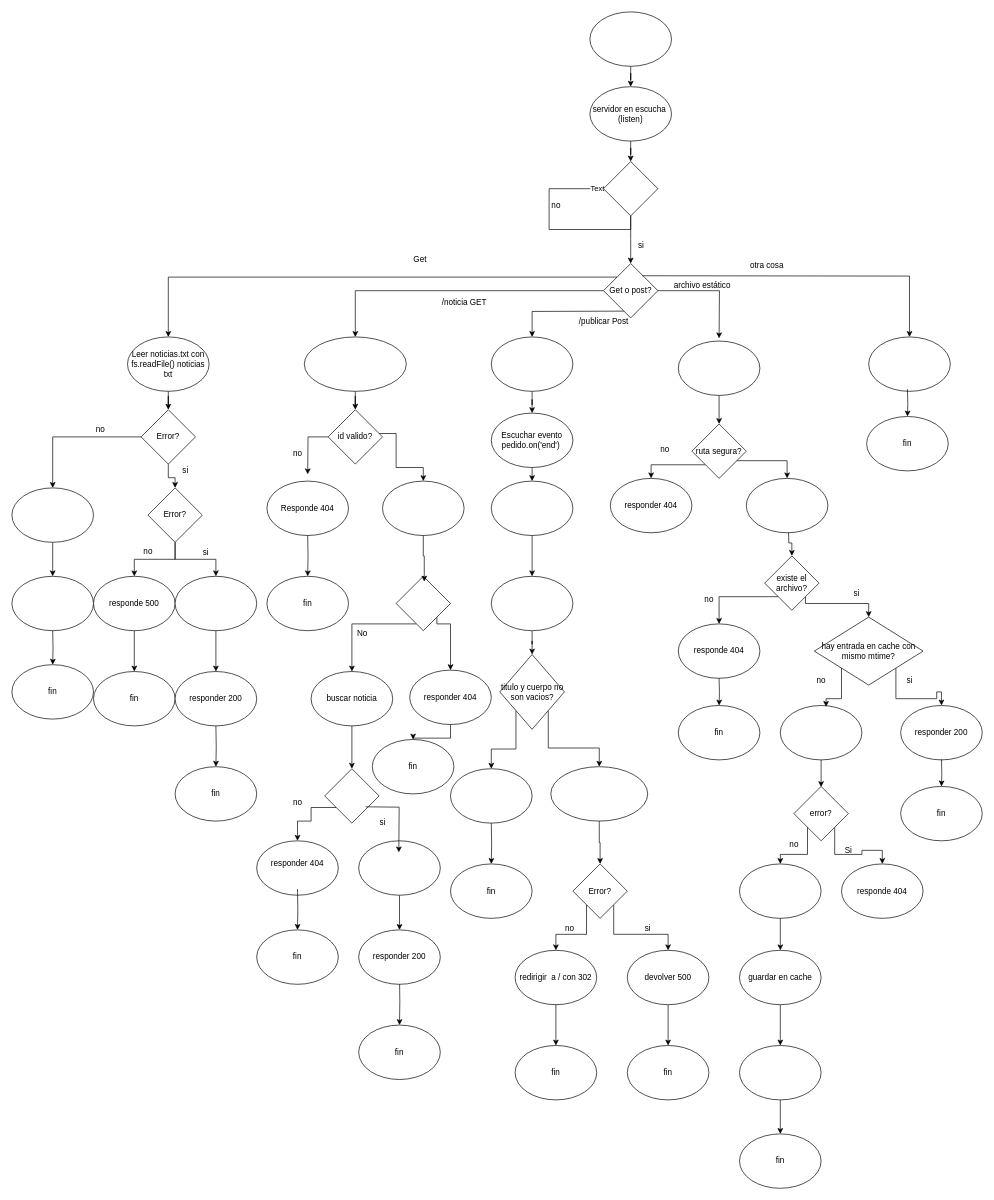
This 994x1200 diagram has some shape labels left out. Each missing label, with the centre of its shape:
construir una ruta fisica: (719,367)
error al leer?: (423,603)
Escuchar evento pedido.on(data): (532,363)
Existe noticia?: (351,795)
fs.appendFile(noticias.txt): (599,793)
fs.stat(ruta(: (787,505)
genera html con el listado: (52,514)
generar html "sin noticias": (215,603)
generar html detalle titulo + cuerpo: (399,867)
guarda en cache: (821,732)
leer noticias: (423,508)
llega una peticion: (630,188)
obtener titulo y cuerpo: (532,603)
obtiene ID desde url.searchParams.get('id'): (355,363)
Parsear con URLSearchParams: (532,508)
resolver MIME mime.getType: (780,890)
respodne 404: (909,363)
responde 200: (780,1072)
responde 200 con el listado: (52,603)
responder 400: (491,795)
se crea el servidor con http.createServer(): (630,38)
